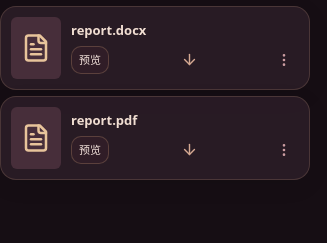
Scenario: shows every saved Office artifact even if a later export failed and previews binary content safely
Click the button with aria-label "预览成果 report.docx" at coordinates (90, 60), box [71,46,109,74]
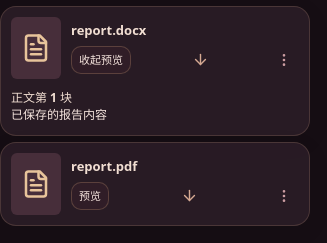
Result: the text "已保存的报告内容" is shown at [11,109,107,123]
